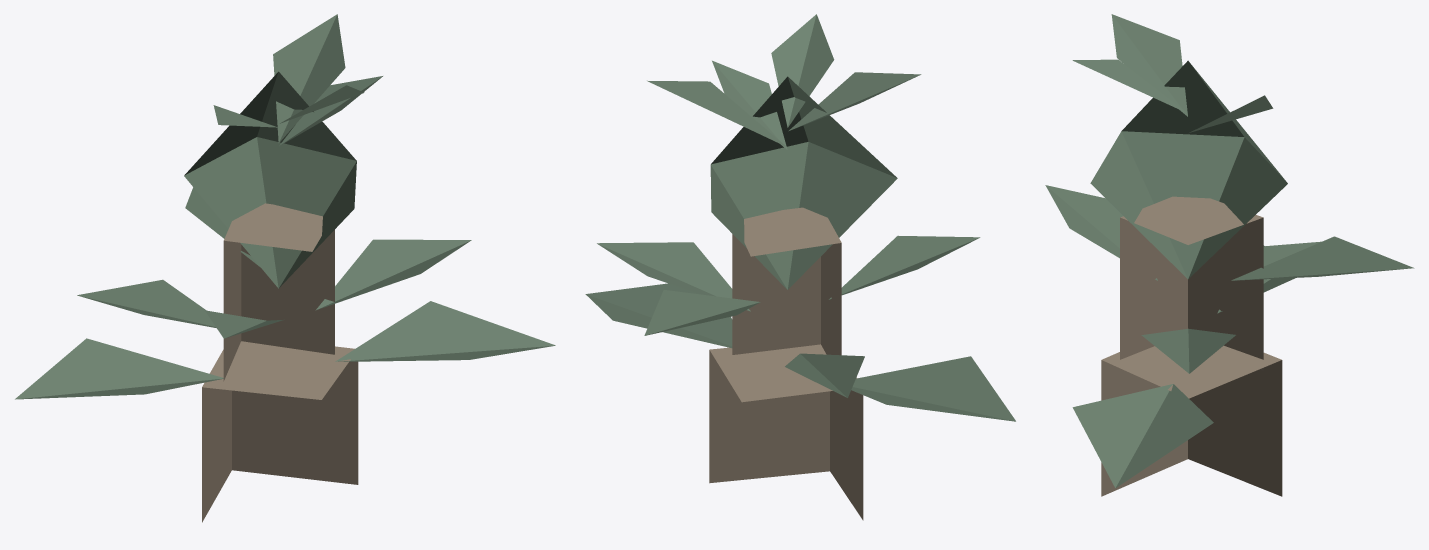
File: shui.huwei@seedling__winter.glb
3 renders of one model, left to right at view 1: azimuth 30°, elevation 25°; view 2: azimuth 150°, elevation 25°; view 3: azimuth 270°, elevation 25°, orthographic. The views are drawn at different scales.
Parts seen in each view (by area): view 1: shui.huwei@seedling__winter; view 2: shui.huwei@seedling__winter; view 3: shui.huwei@seedling__winter.
Boxes of the visible parts, x1,y1,x2,y2 form: shui.huwei@seedling__winter: (15,14,555,522); shui.huwei@seedling__winter: (585,14,1015,520); shui.huwei@seedling__winter: (1045,14,1414,496).
Size of the model in its own units: 0.1003 by 0.0874 by 0.065.
